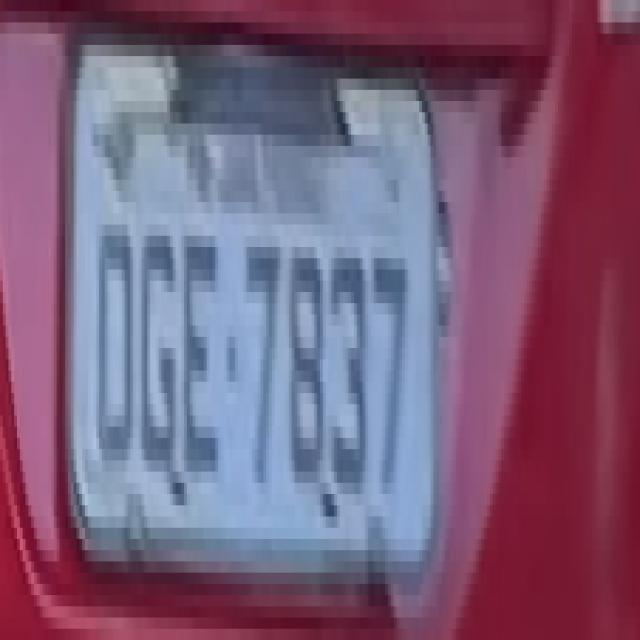Placa_mercosul_carro: (65, 41, 434, 563)
